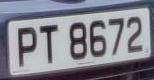2: (125, 12, 145, 59)
6: (87, 14, 110, 65)
7: (107, 14, 127, 61)
8: (67, 15, 90, 67)
P: (14, 22, 40, 72)
T: (37, 21, 62, 69)
